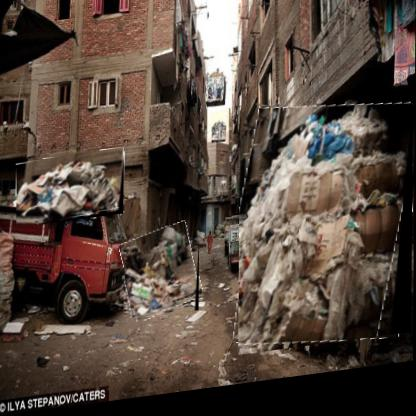Garbage: (240, 103, 415, 364), (17, 152, 126, 230), (125, 228, 202, 326)
